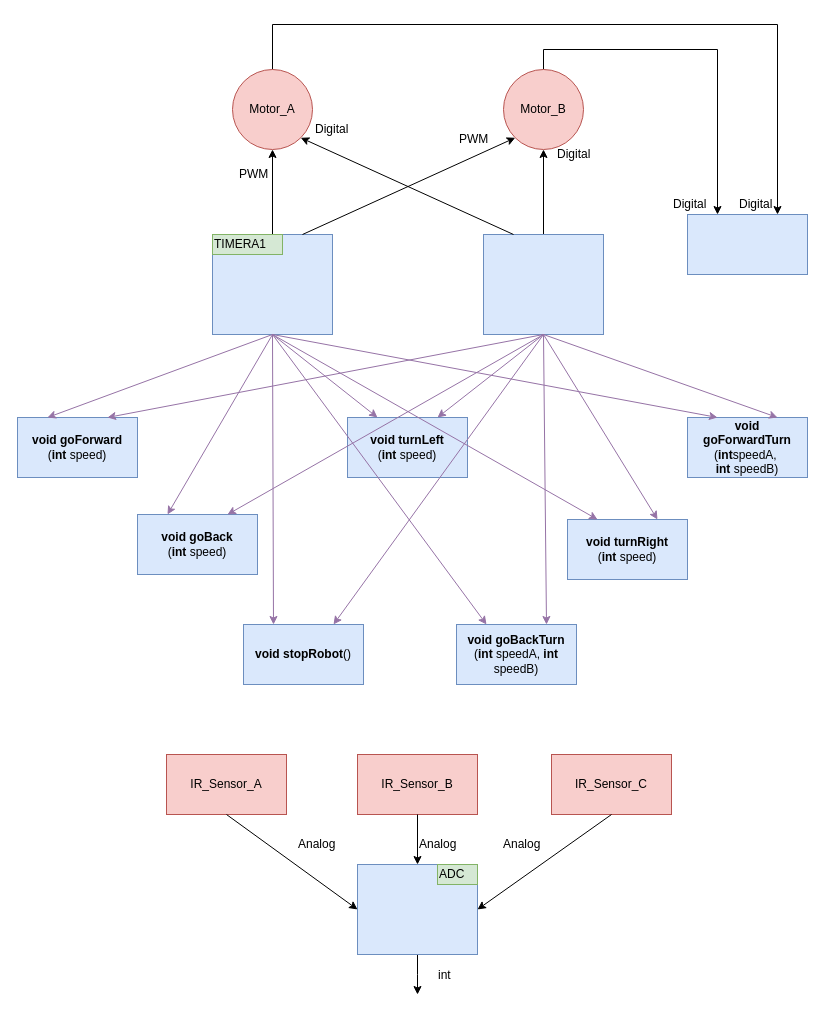
The diagram is 825 pixels wide and 1020 high, and some of its shapes have lost their labels. The box of each missing label's shape, as (x1, y1, x2, y2) in pixels:
int readIR ( irSensor irSensor): (356, 864, 478, 954)
int readOpto ( opto opto): (686, 214, 808, 274)
void setMortorDirection ( motor motor, direction d): (482, 234, 604, 334)
void setMortorSpeed ( motor motor, int speed): (212, 234, 332, 334)
